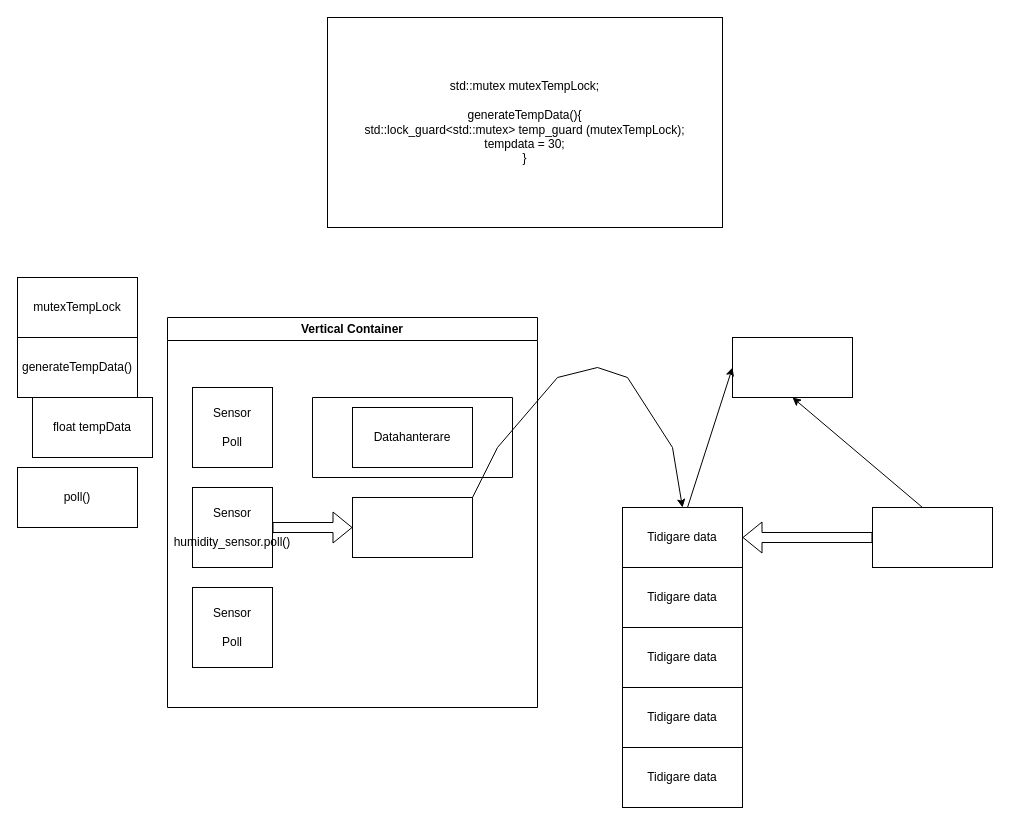
This 1010x825 diagram has some shape labels left out. Here are the shapes that lost their labels. From the top down, the box of each, then its label:
(732, 336, 852, 398): Print output
(352, 496, 472, 558): Senaste data
(872, 506, 992, 568): Statistik
